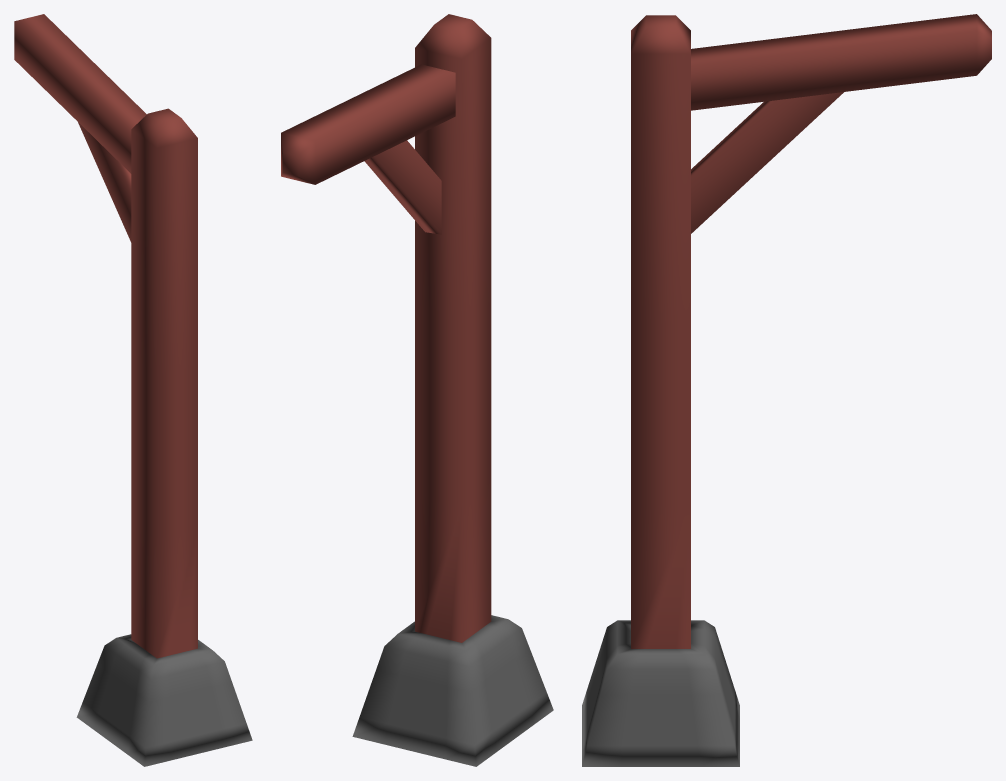
Rendered from Light_Beam.fbx.
3 views of the same model, side by side, from view 1: azimuth 30°, elevation 25°; view 2: azimuth 150°, elevation 25°; view 3: azimuth 270°, elevation 25° (orthographic). The views are drawn at different scales.
Visible parts, largest first — view 1: Light_Beam; view 2: Light_Beam; view 3: Light_Beam.
Boxes of the visible parts, left/top/right/bottom form: Light_Beam: left=14, top=14, right=252, bottom=766; Light_Beam: left=281, top=14, right=553, bottom=766; Light_Beam: left=582, top=14, right=991, bottom=766.
Size of the model in its own units: 67.65 by 366 by 190.
